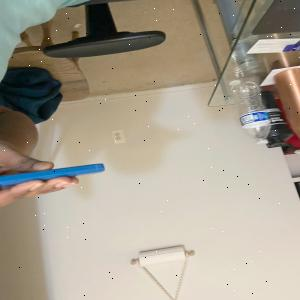Diamond-E-Ciggirate: (0, 159, 109, 190)
